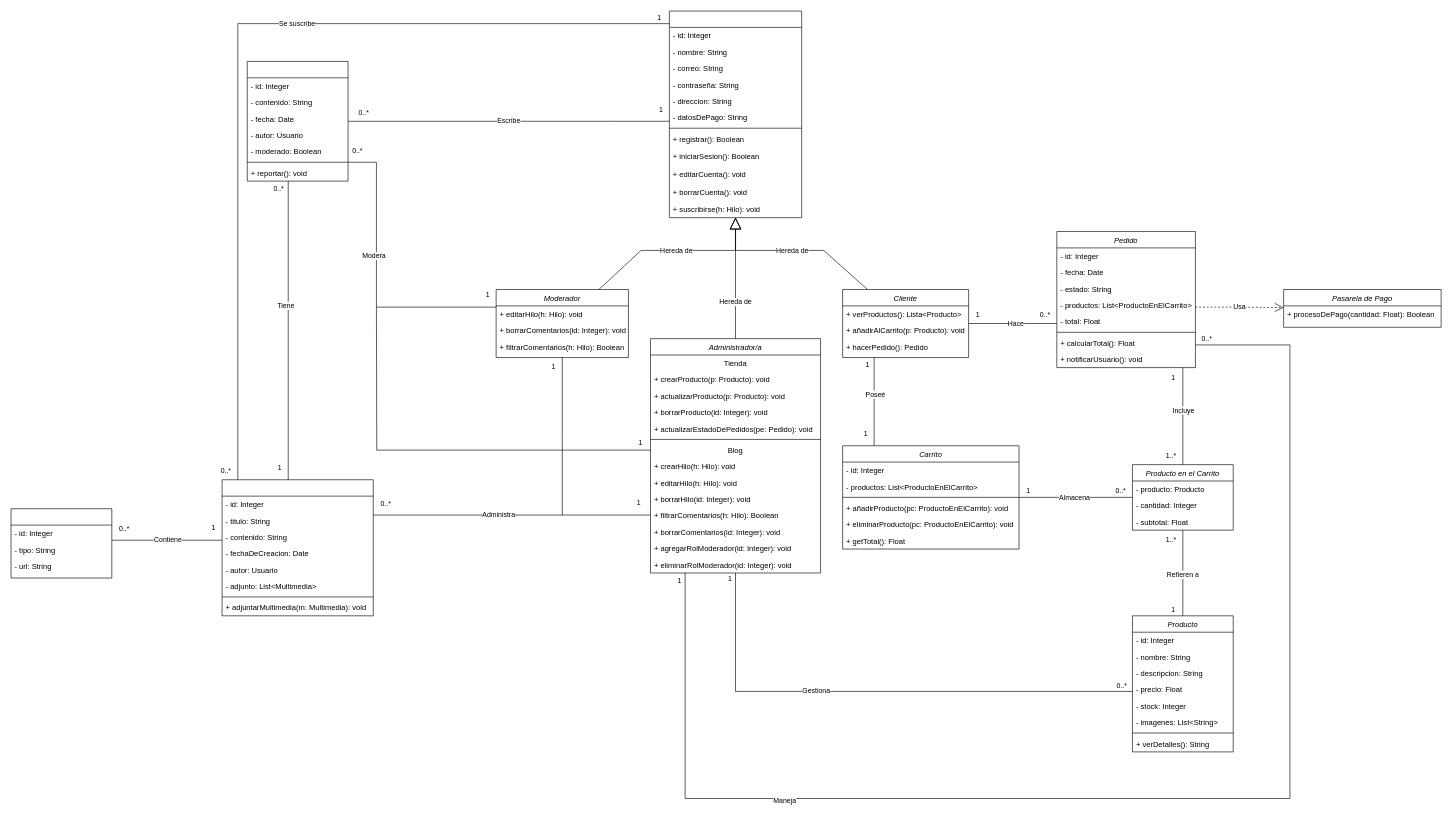
Image size: 1452x815. Some labels were removed from this diagram. Each missing label, with the box of its shape:
Comentario: (247, 61, 348, 181)
Hilo: (221, 479, 373, 616)
Multimedia: (10, 508, 112, 578)
Usuario: (669, 10, 802, 218)
